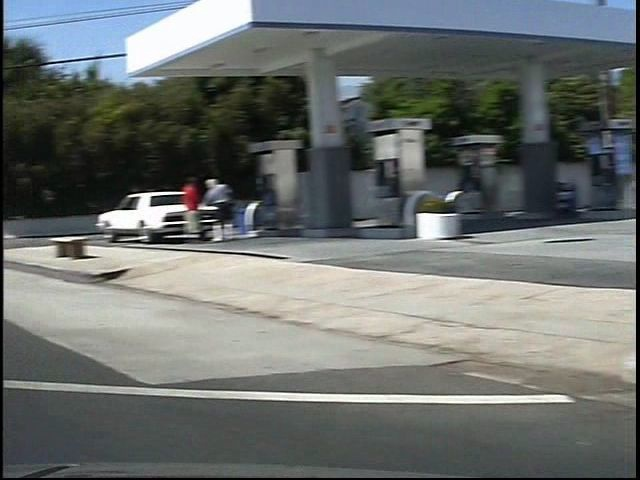person: (178, 172, 217, 243), (157, 172, 183, 245)
